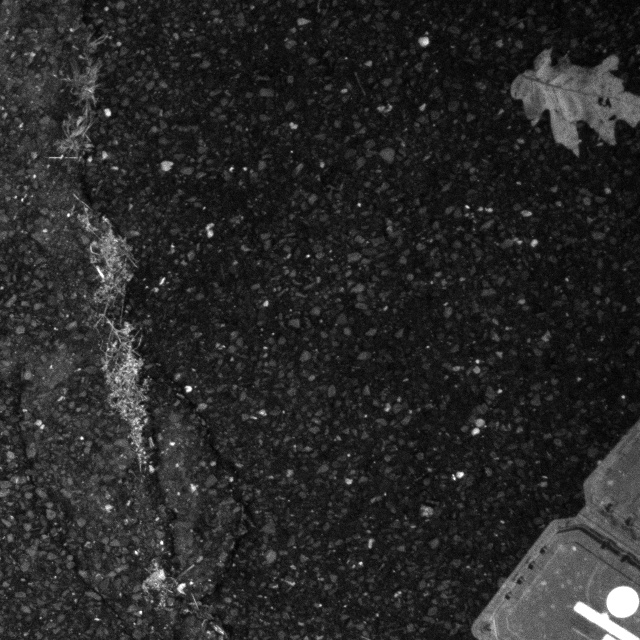container: (466, 398, 640, 640)
